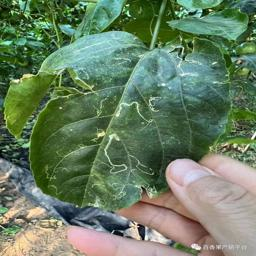liriomyza: (104, 131, 128, 175), (113, 100, 154, 125), (41, 164, 62, 196), (129, 152, 154, 176), (176, 57, 193, 78), (108, 182, 127, 200), (93, 96, 108, 118), (146, 95, 163, 113), (90, 127, 105, 146)
